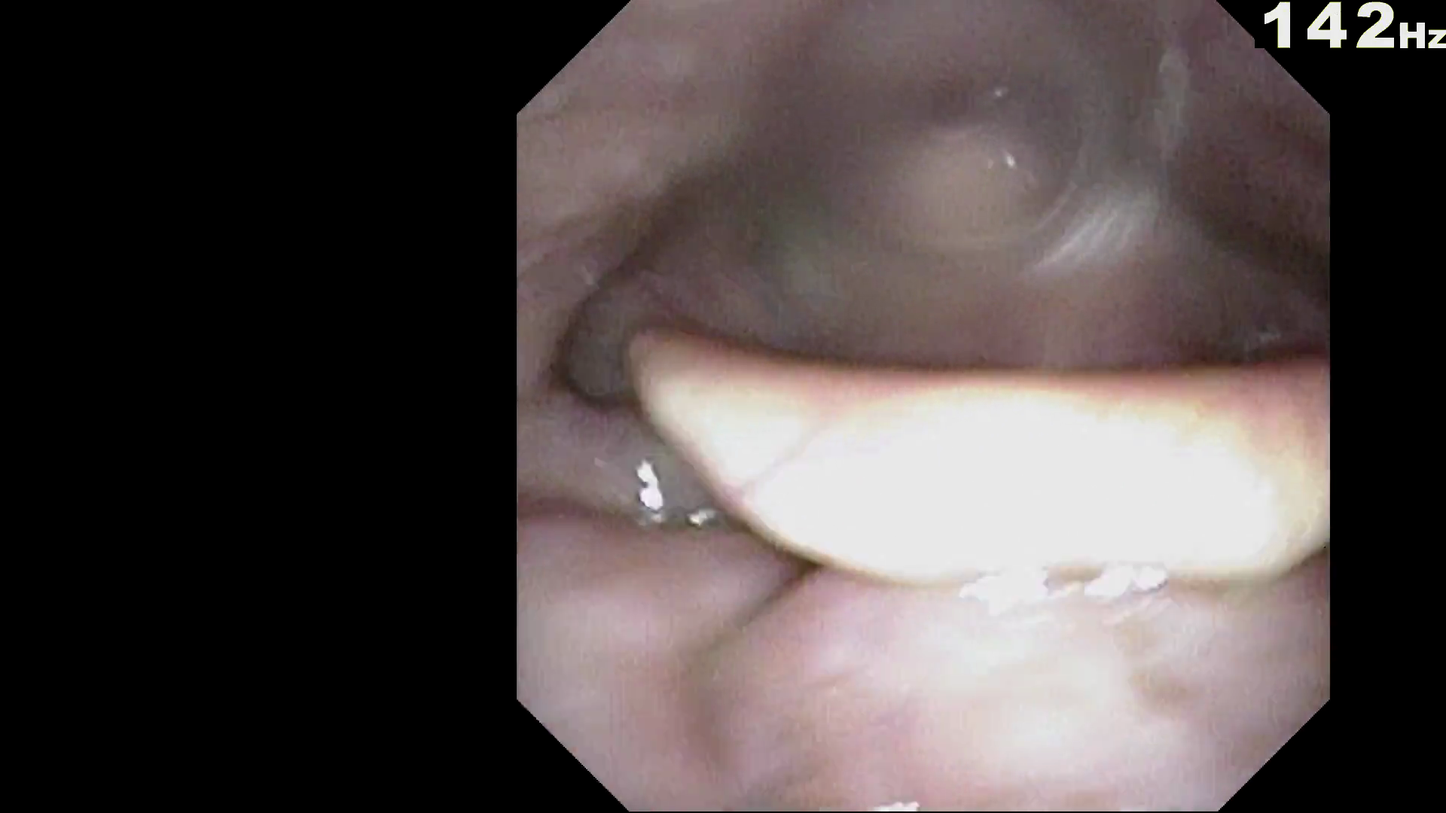epiglottis: (605, 335, 1220, 560)
